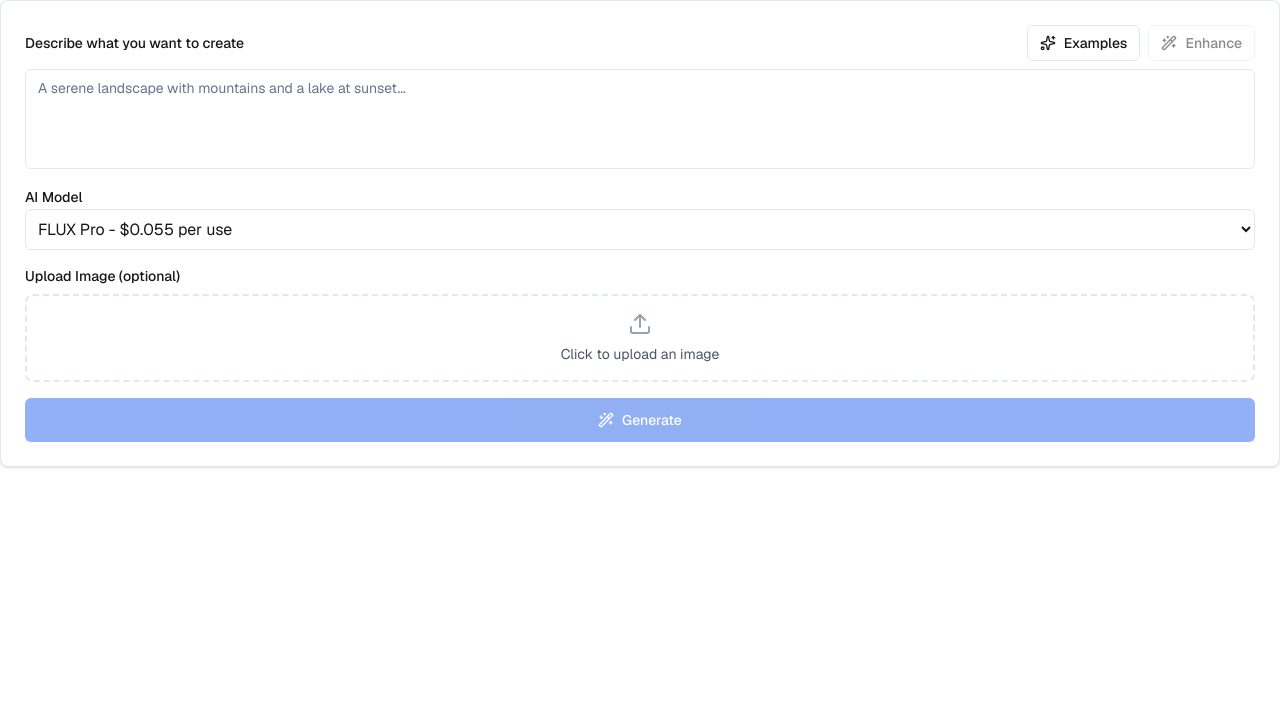
Test: PromptInput Component › selects example prompt when clicked
Open examples
Step 1. Click the button "Examples" → (1084, 43), box [1027,25,1140,61]
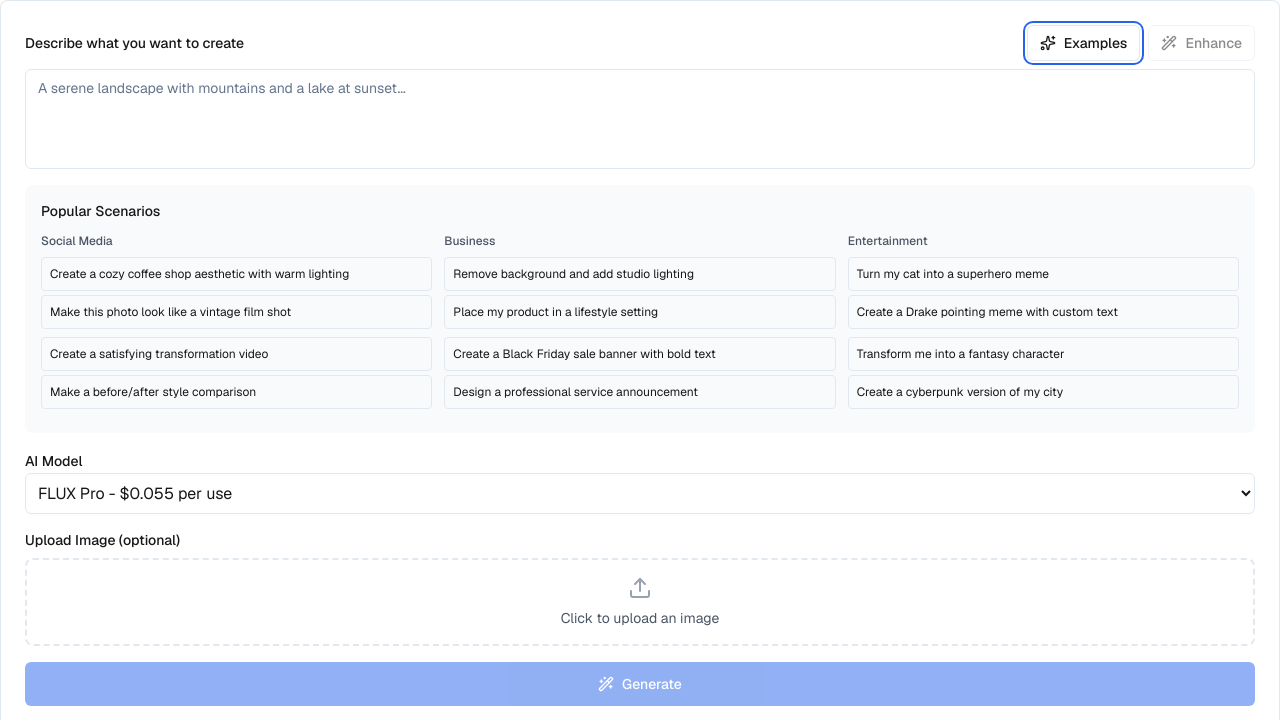
Click on a scenario example
Step 2. Click the button "Create a cozy coffee shop aesthetic with warm lighting" → (237, 274), box [41,257,432,291]
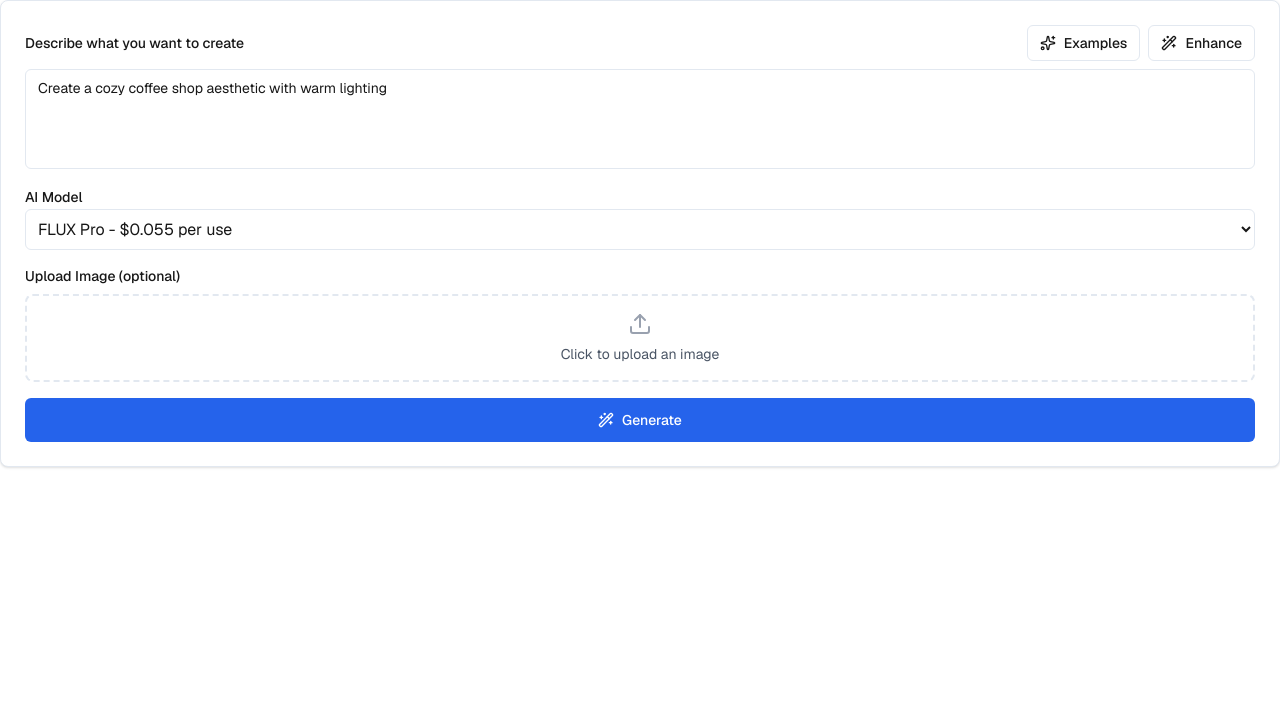
Check: the text box with placeholder "A serene landscape with mountains and a lake at sunset..." holds "Create a cozy coffee shop aesthetic with warm lighting", box [25,69,1255,169]
